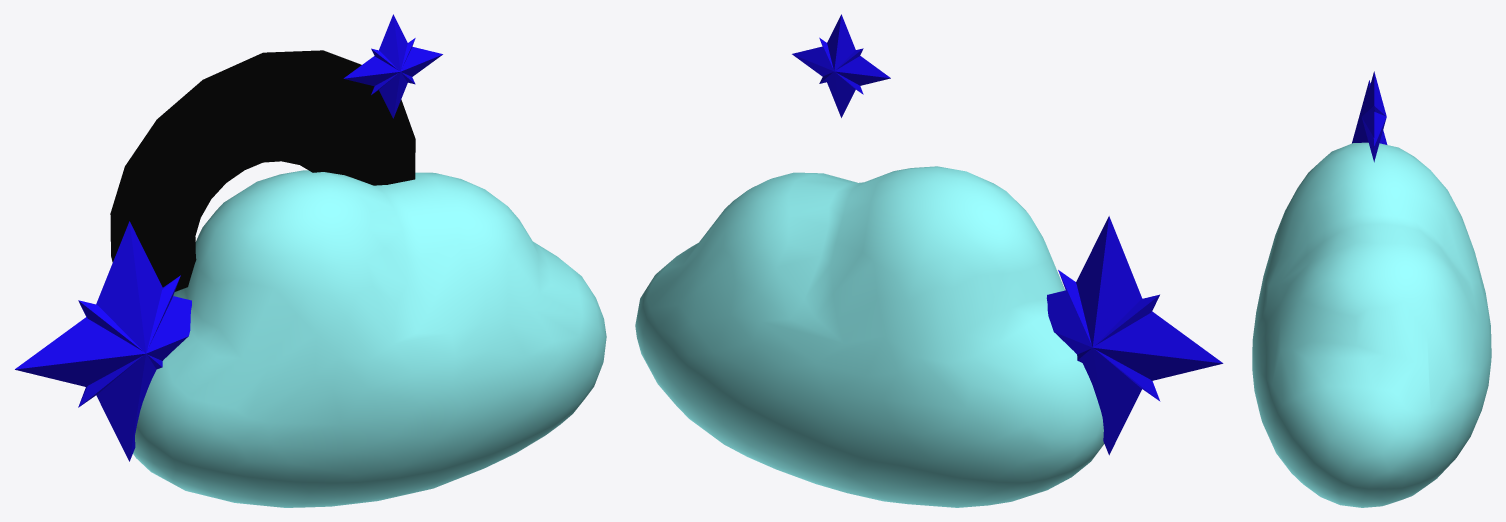
File: Item_Transform.FBX
3 views of the same model, side by side, from view 1: azimuth 30°, elevation 25°; view 2: azimuth 150°, elevation 25°; view 3: azimuth 270°, elevation 25° (orthographic). The views are drawn at different scales.
Parts seen in each view (by area): view 1: Item_Transform; view 2: Item_Transform; view 3: Item_Transform.
Boxes of the visible parts, bbox=[...] form: Item_Transform: bbox=[15, 14, 606, 507]; Item_Transform: bbox=[635, 14, 1223, 507]; Item_Transform: bbox=[1252, 71, 1491, 507].
Bounding box in the file's own units: 142 × 109 × 58.12.
